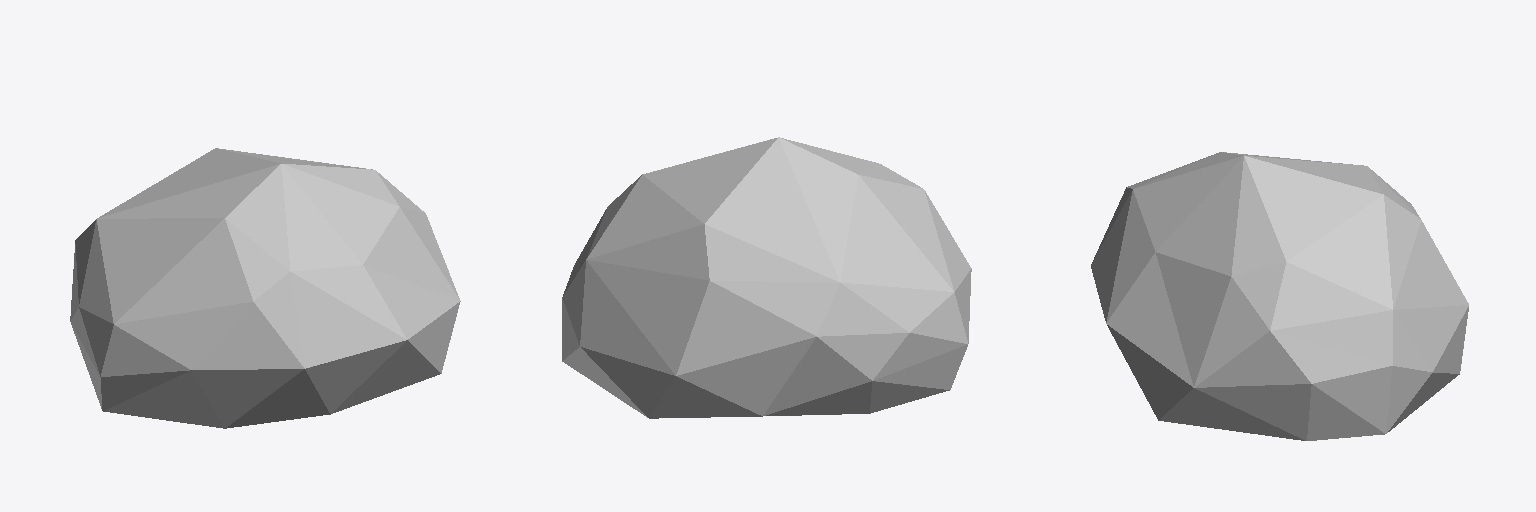
Rendered from Forest_B_Rock_07.obj.
3 views of the same model, side by side, from view 1: azimuth 30°, elevation 25°; view 2: azimuth 150°, elevation 25°; view 3: azimuth 270°, elevation 25° (orthographic).
Parts seen in each view (by area): view 1: Forest_B_Rock_07; view 2: Forest_B_Rock_07; view 3: Forest_B_Rock_07.
Part boxes in pixels (bbox=[...]): Forest_B_Rock_07: bbox=[70, 148, 460, 428]; Forest_B_Rock_07: bbox=[562, 137, 971, 418]; Forest_B_Rock_07: bbox=[1091, 152, 1468, 440].
Bounding box in the file's own units: 75.38 × 42.02 × 69.45.